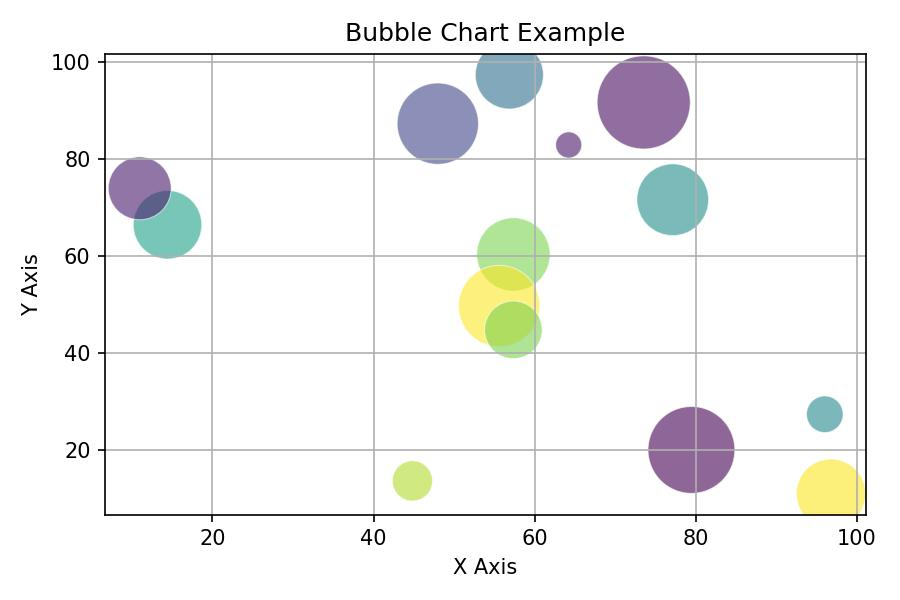axis: (73, 503, 882, 553), (51, 39, 114, 552)
circle: (597, 56, 690, 147), (649, 405, 738, 494), (397, 84, 476, 163), (459, 267, 541, 342), (635, 163, 710, 234), (479, 218, 549, 287), (134, 192, 201, 258), (107, 157, 175, 218), (476, 52, 544, 108), (798, 460, 865, 513), (486, 302, 543, 358), (804, 393, 846, 434), (393, 462, 436, 500), (554, 130, 583, 160)
